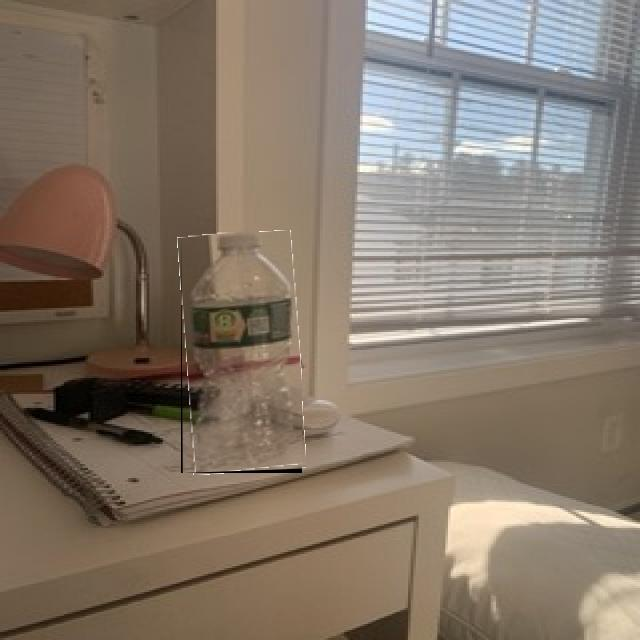water_bottle: (181, 232, 302, 473)
